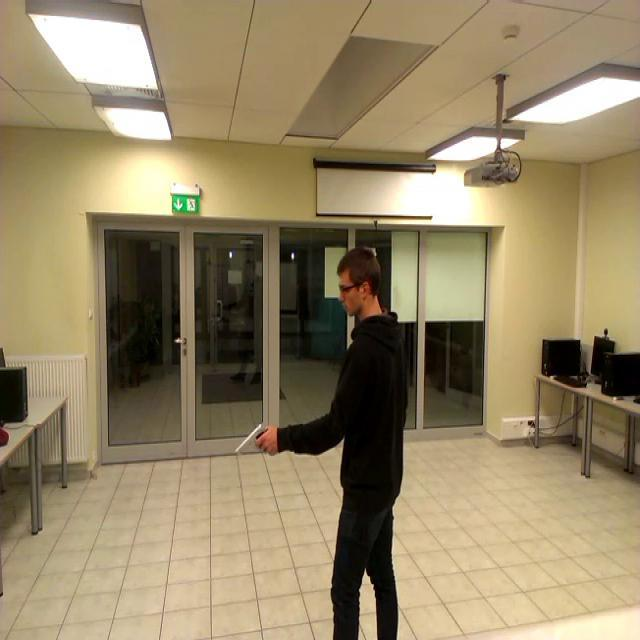Gun: (236, 422, 277, 453)
